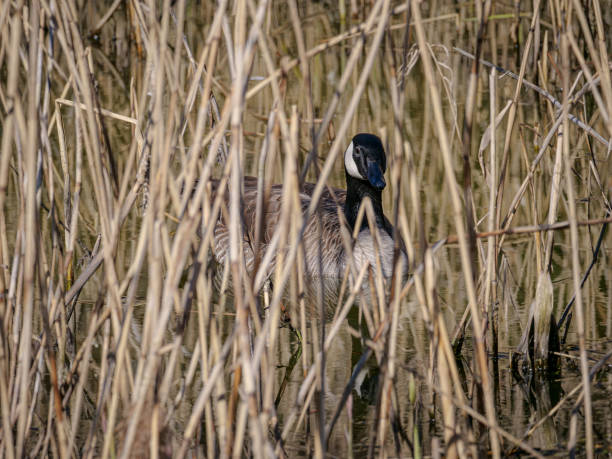goose: (175, 132, 410, 334)
